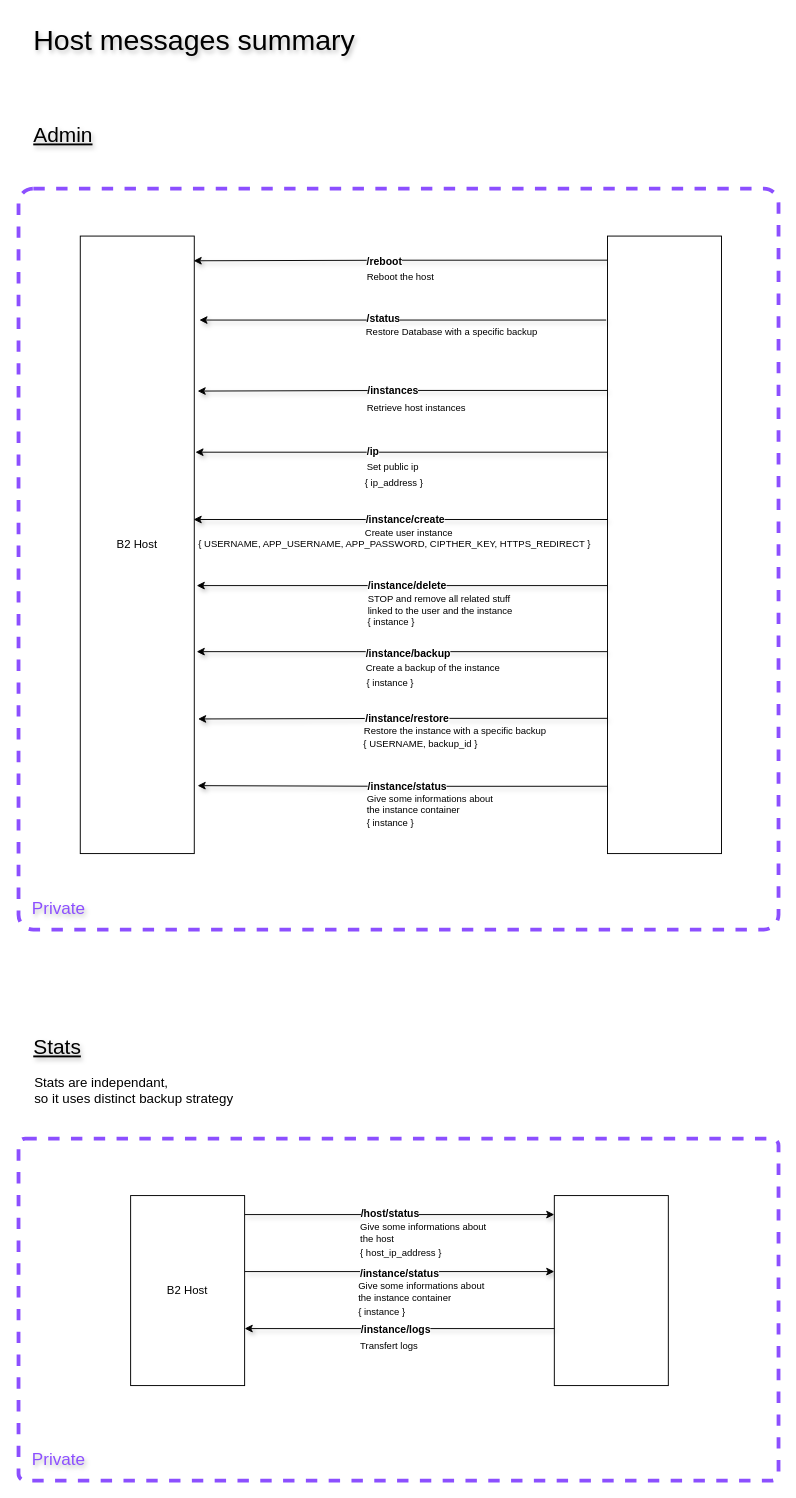
This 796x1498 diagram has some shape labels left out. Here are the shapes that lost their labels. From the top down, the centre of each, then its label:
(664,544): Admin Host
(610,1290): Stats Host
